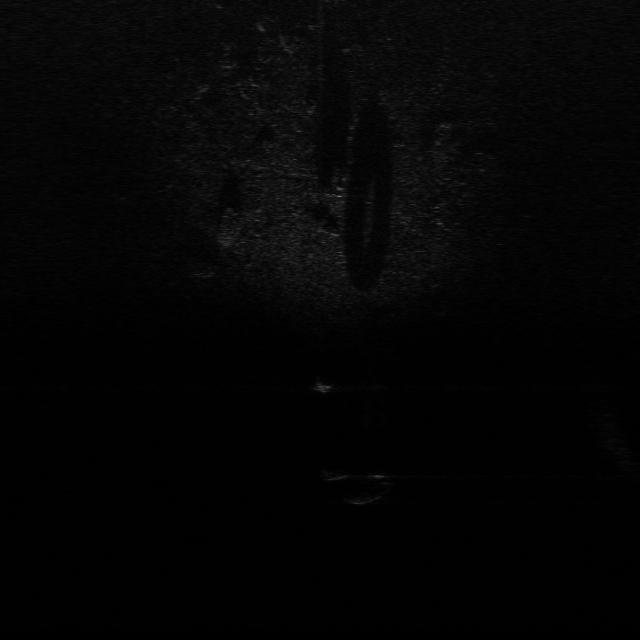cube: (317, 467, 353, 482)
square cage: (306, 374, 336, 395)
tyre: (344, 471, 394, 507)
